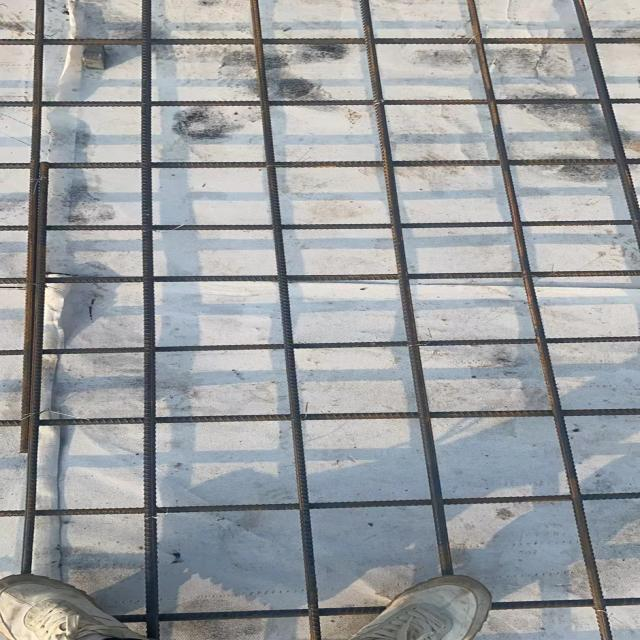ribbed bar: (463, 0, 611, 639), (356, 0, 454, 578), (248, 0, 323, 639), (14, 0, 55, 577), (570, 0, 639, 245), (0, 491, 639, 517), (104, 597, 639, 623), (0, 335, 639, 356), (0, 408, 639, 427), (141, 0, 160, 639), (0, 269, 639, 285), (0, 157, 639, 168), (0, 97, 639, 107), (0, 221, 639, 230), (0, 37, 639, 45)
